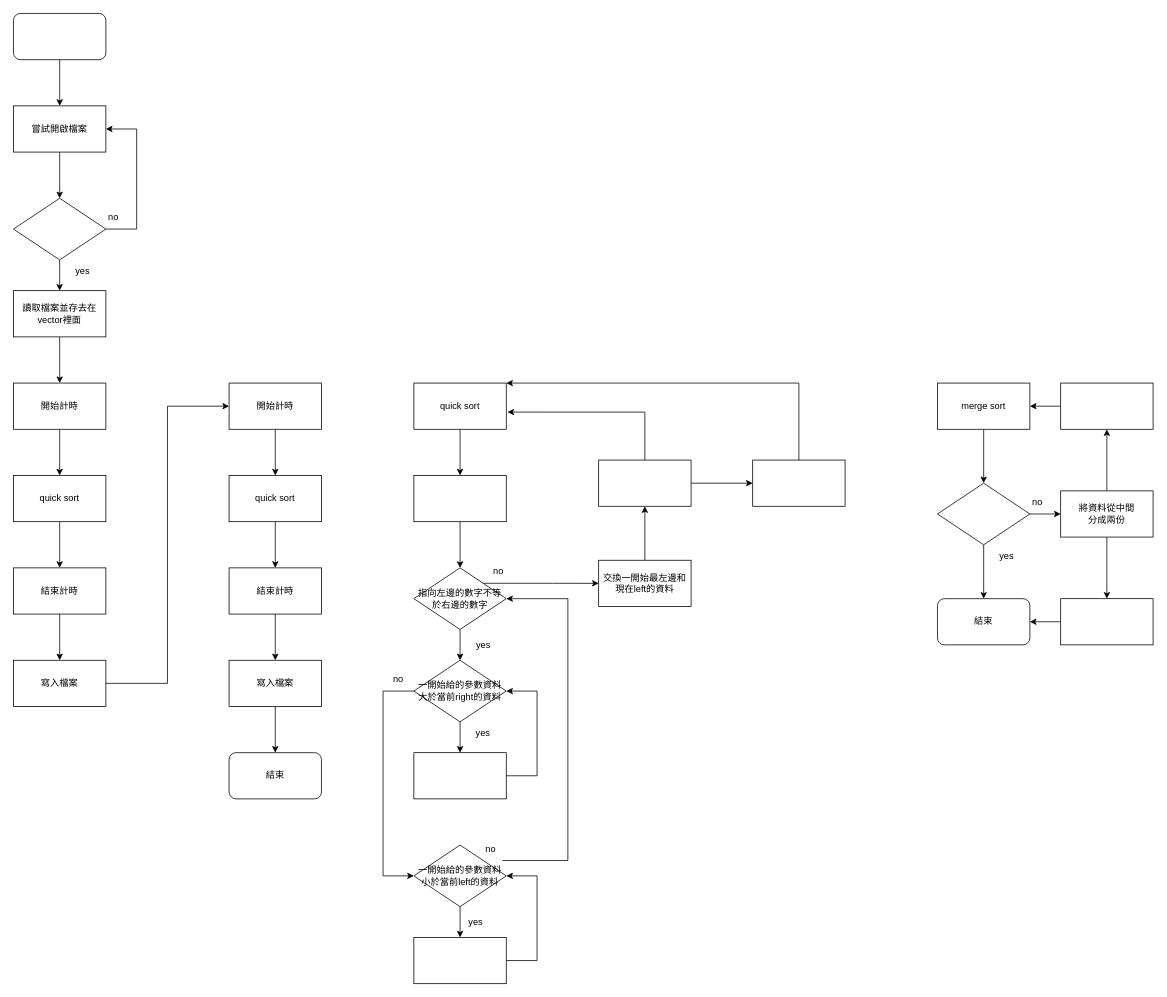
The diagram is 1167 pixels wide and 997 high, and some of its shapes have lost their labels. Each missing label, with the centre of its shape:
"left -1" goes at pixel 459 960.
"right - 1" goes at pixel 459 775.
"兩份資料分別傳入merge_sort" goes at pixel 1106 405.
"將參數給為 初始的left-1(left) 和變化過後的left(right)" goes at pixel 644 482.
"將參數給為變化過後的left +1 (left) 和初始的right(right)" goes at pixel 798 482.
"將回傳的資料作插入排列並回傳" goes at pixel 1106 621.
"檔案是否開啟" goes at pixel 59 229.
"紀錄一開始給的兩個 資料位置(right, left)" goes at pixel 459 498.
"給的參數長度為一" goes at pixel 983 513.
"開始" goes at pixel 59 36.
